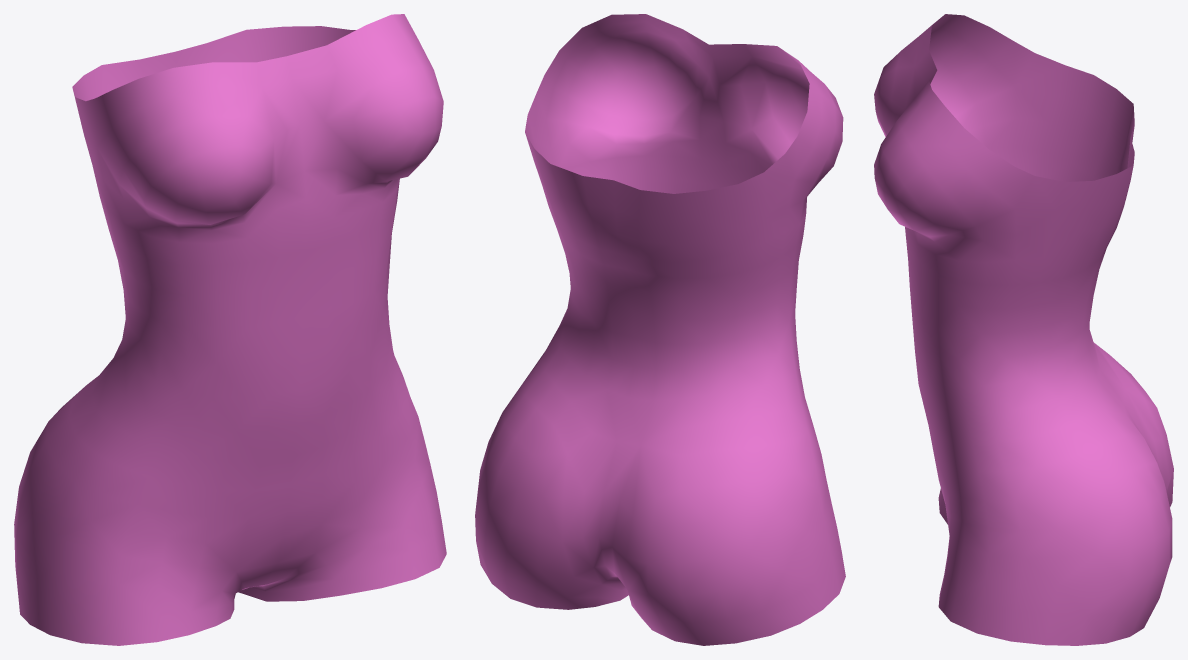
Rendered from OnePieceSwimShorts.dae.
The picture shows the model from 3 angles, left to right: view 1: azimuth 30°, elevation 25°; view 2: azimuth 150°, elevation 25°; view 3: azimuth 270°, elevation 25°; orthographic projection. The views are drawn at different scales.
Parts seen in each view (by area): view 1: OnePieceSwimShorts; view 2: OnePieceSwimShorts; view 3: OnePieceSwimShorts.
Part boxes in pixels (bbox=[...]): OnePieceSwimShorts: bbox=[14, 14, 446, 645]; OnePieceSwimShorts: bbox=[475, 14, 845, 645]; OnePieceSwimShorts: bbox=[874, 14, 1173, 645].
Size of the model in its own units: 0.3803 by 0.2918 by 0.5625.
